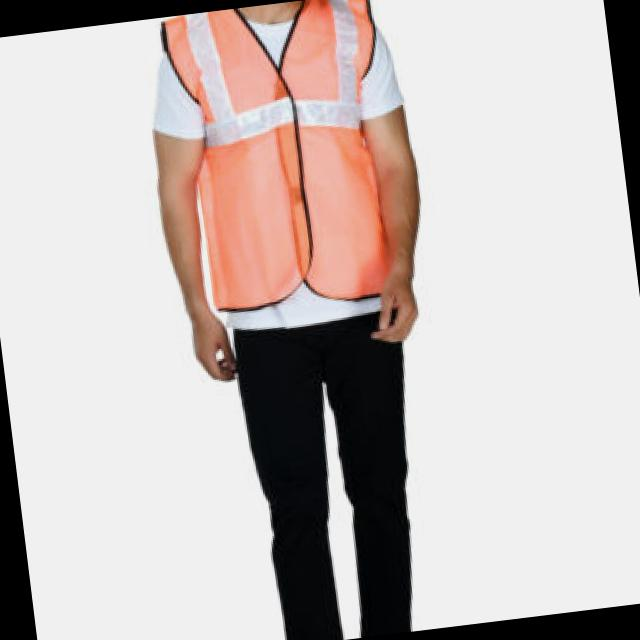vest: (141, 0, 435, 342)
